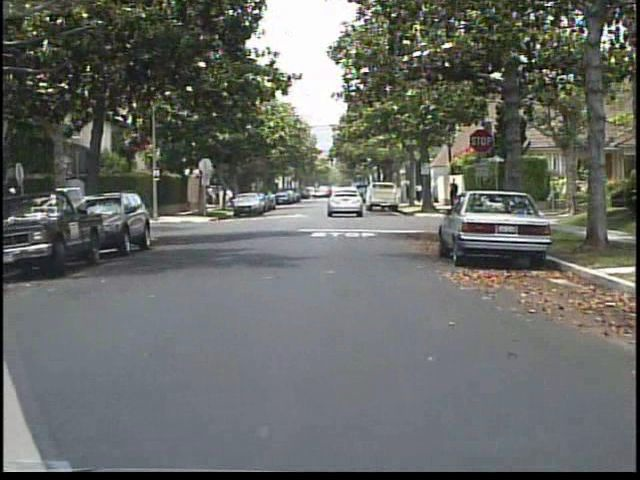person: (445, 177, 463, 214), (415, 179, 426, 205)
